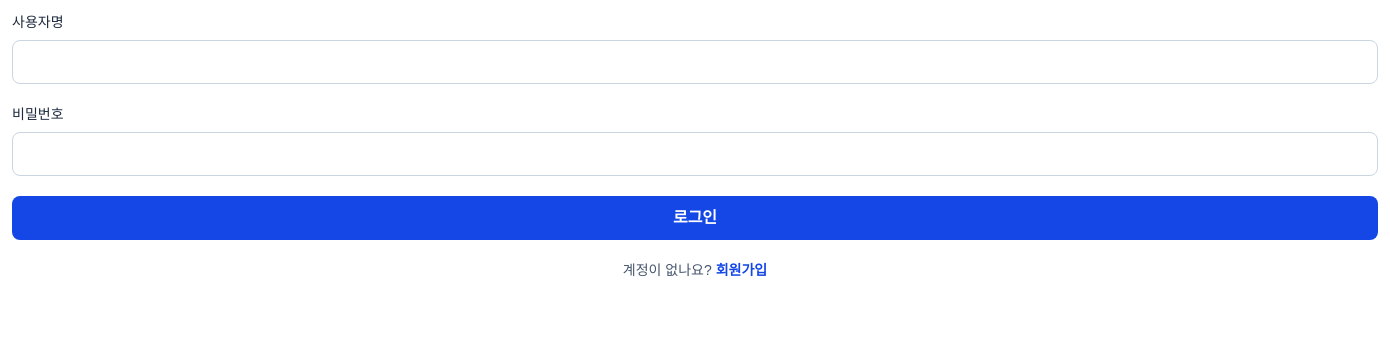
it: login screen › shows the same generic authentication failure
Step 1. Type "local.user" into the field labelled "사용자명" → (695, 62), box [12,40,1378,84]
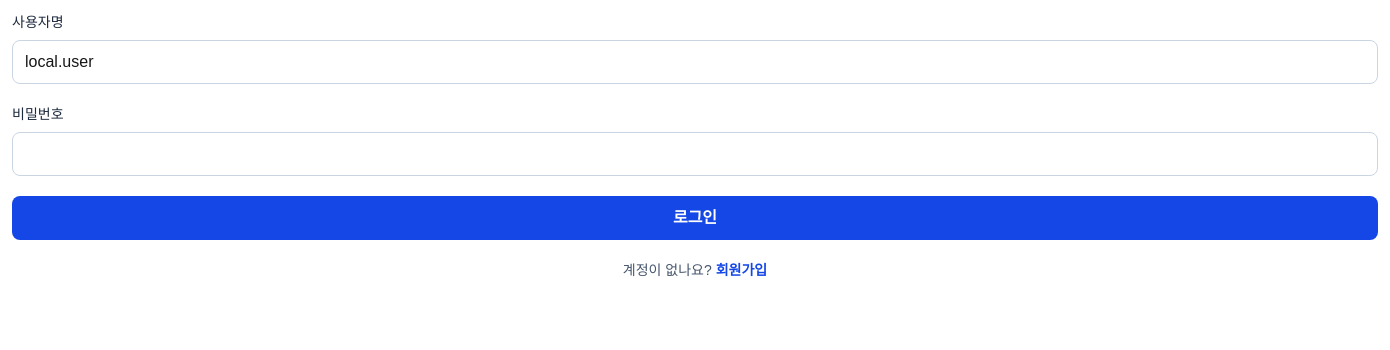
Step 2. Type "xxxxxxxxxx" into the password field labelled "비밀번호" → (695, 154), box [12,132,1378,176]
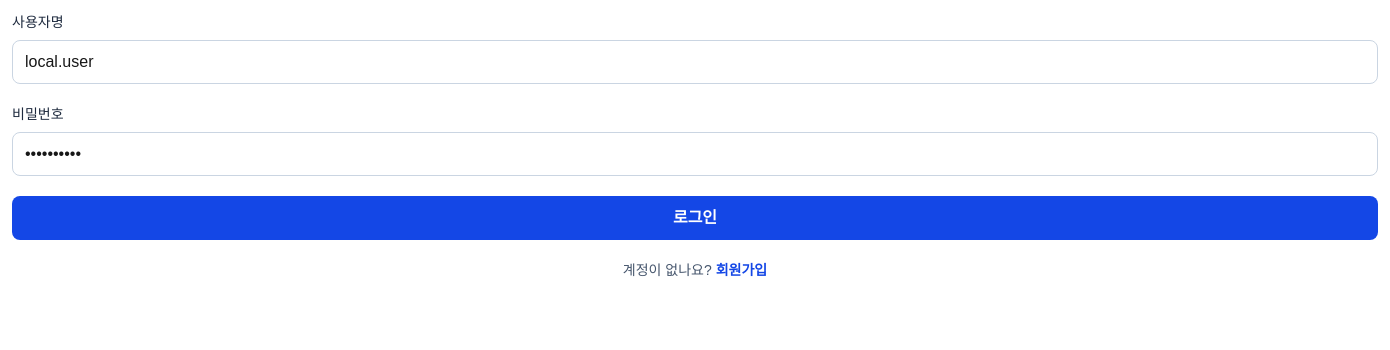
Step 3. Click the button "로그인" → (695, 218), box [12,196,1378,240]
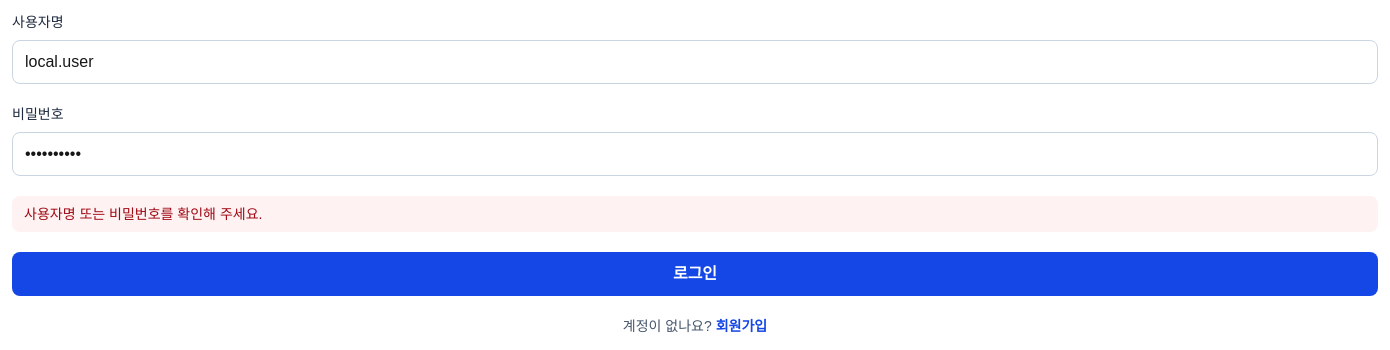
Expected: the message reads "사용자명 또는 비밀번호를 확인해 주세요.", [24,206,262,222]
